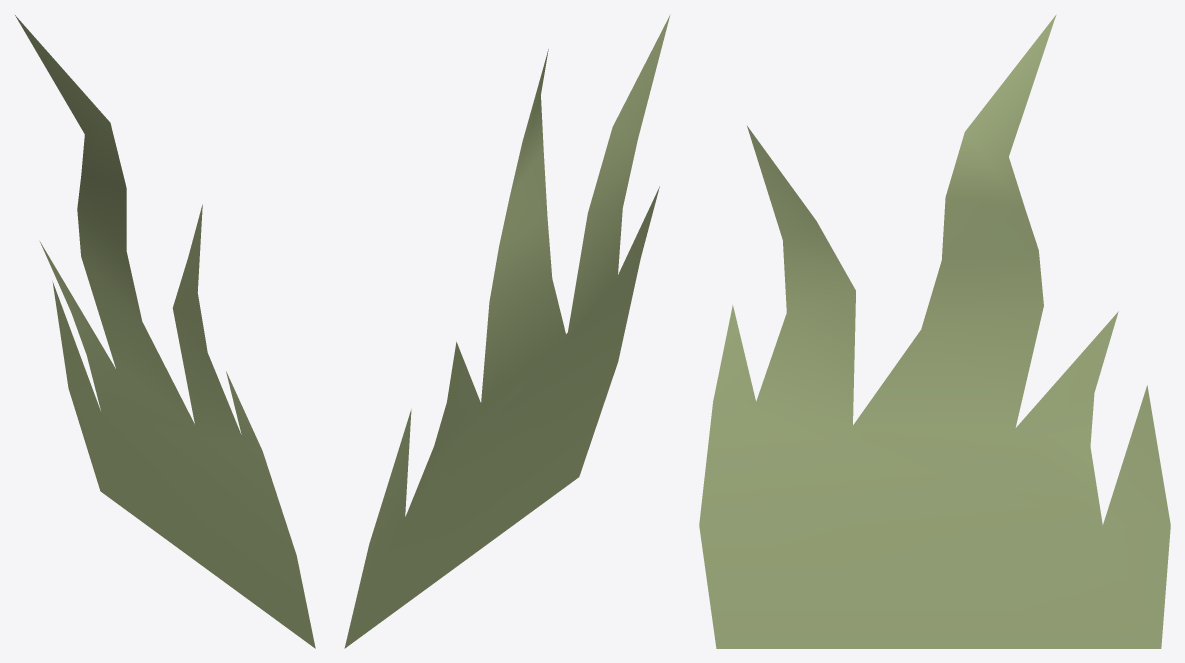
File: TallGrass2.fbx
The picture shows the model from 3 angles, left to right: view 1: azimuth 30°, elevation 25°; view 2: azimuth 150°, elevation 25°; view 3: azimuth 270°, elevation 25°; orthographic projection. The views are drawn at different scales.
Parts seen in each view (by area): view 1: TallGrass1; view 2: TallGrass1; view 3: TallGrass1.
Boxes of the visible parts, x1,y1,x2,y2 form: TallGrass1: [15, 15, 315, 648]; TallGrass1: [344, 14, 670, 648]; TallGrass1: [699, 14, 1170, 648].
Size of the model in its own units: 9.35 by 35.77 by 27.01.
